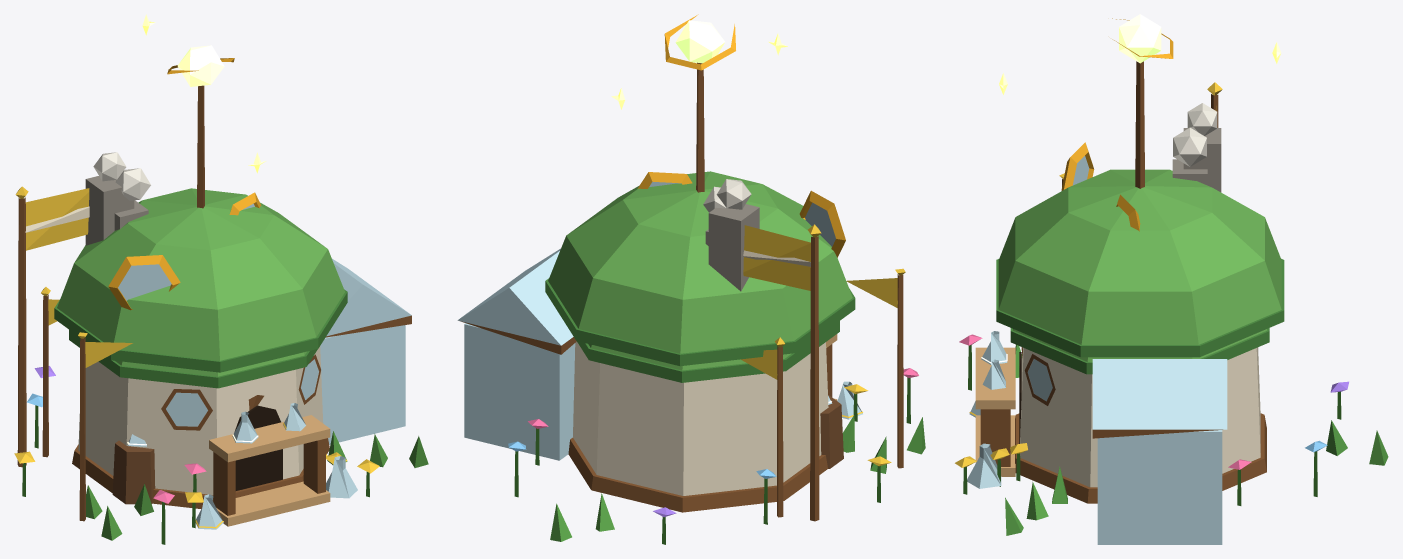
The model's file is pollen-lab.glb.
3 views of the same model, side by side, from view 1: azimuth 30°, elevation 25°; view 2: azimuth 150°, elevation 25°; view 3: azimuth 270°, elevation 25° (orthographic). The views are drawn at different scales.
Visible parts, largest first — view 1: lv3, lv2, lv1; view 2: lv3, lv2, lv1; view 3: lv3, lv2, lv1.
Boxes of the visible parts, x1,y1,x2,y2 form: lv3: [14, 14, 428, 544]; lv2: [27, 168, 387, 528]; lv1: [112, 431, 347, 515]; lv3: [457, 14, 925, 544]; lv2: [528, 172, 886, 531]; lv1: [820, 395, 854, 468]; lv3: [955, 14, 1388, 544]; lv2: [975, 127, 1347, 520]; lv1: [1010, 443, 1067, 503].
Size of the model in its own units: 1.8 by 1.92 by 1.74.
